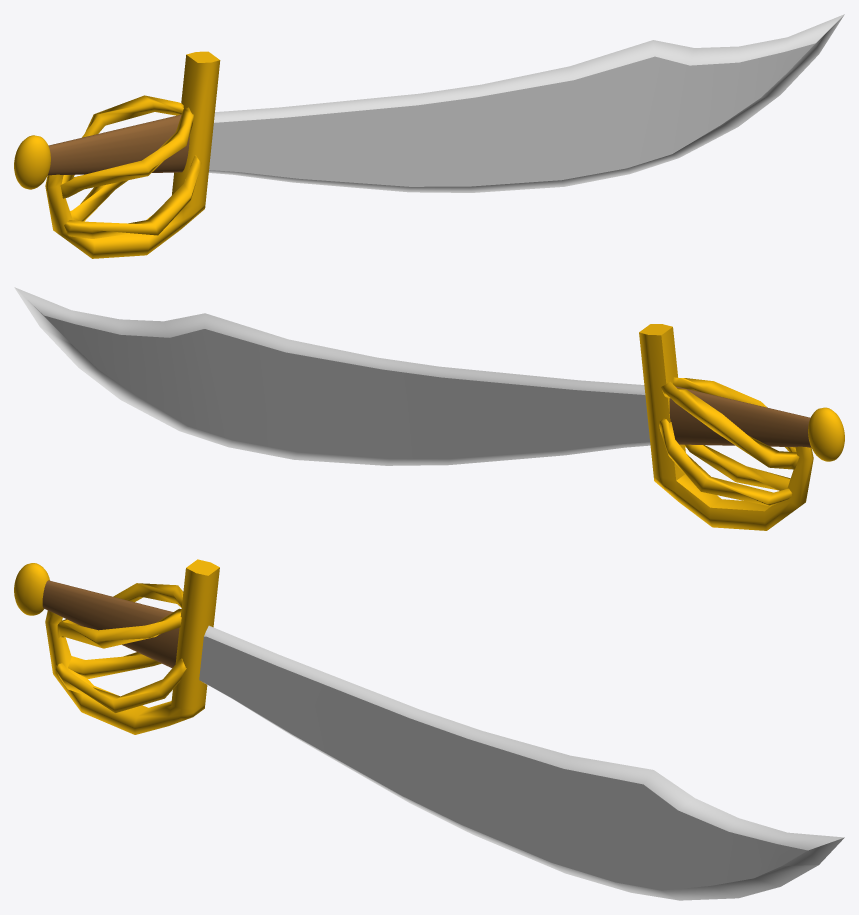
File: SwordExport.obj
3 renders of one model, top to bottom at view 1: azimuth 30°, elevation 25°; view 2: azimuth 150°, elevation 25°; view 3: azimuth 330°, elevation 25°, orthographic.
Parts seen in each view (by area): view 1: sword; view 2: sword; view 3: sword.
Part boxes in pixels (bbox=[...]): sword: bbox=[14, 14, 844, 258]; sword: bbox=[14, 287, 844, 530]; sword: bbox=[14, 559, 844, 900].
Bounding box in the file's own units: 13.62 × 3.5 × 1.48.
